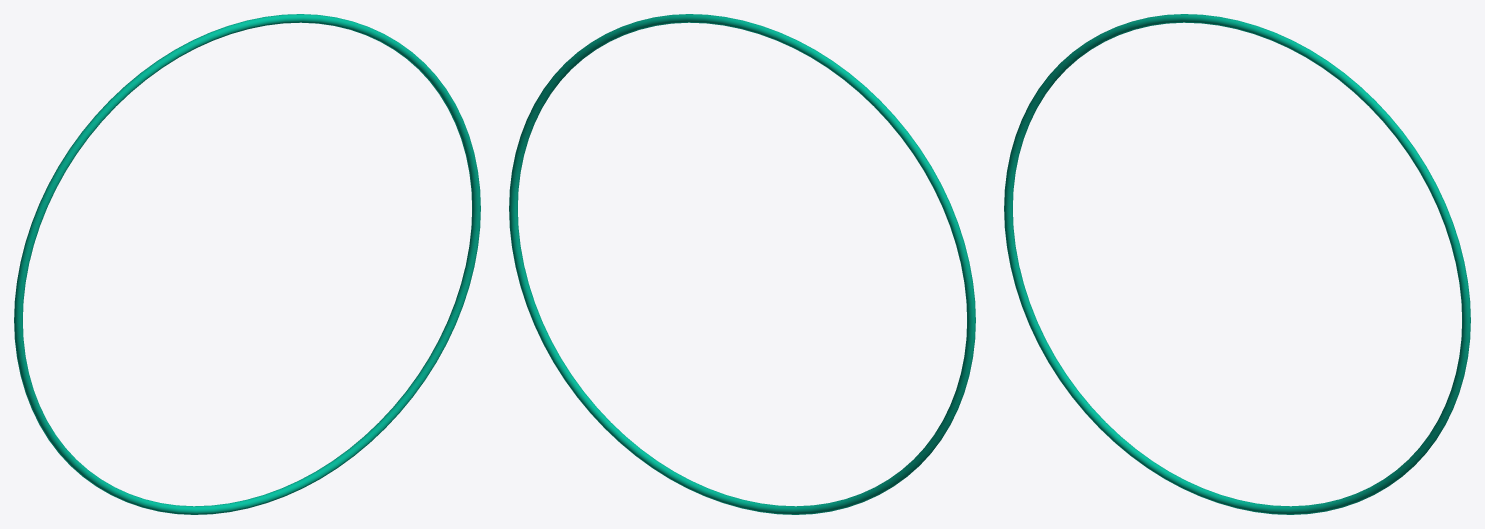
3 renders of one model, left to right at view 1: azimuth 30°, elevation 25°; view 2: azimuth 150°, elevation 25°; view 3: azimuth 330°, elevation 25°, orthographic.
Visible parts, largest first — view 1: JewelCAD; view 2: JewelCAD; view 3: JewelCAD.
Part boxes in pixels (x1,y1,x2,y2): JewelCAD: [14, 14, 480, 514]; JewelCAD: [509, 14, 975, 514]; JewelCAD: [1004, 14, 1470, 514].
Bounding box in the file's own units: 0.0367 × 0.0367 × 0.0006.
